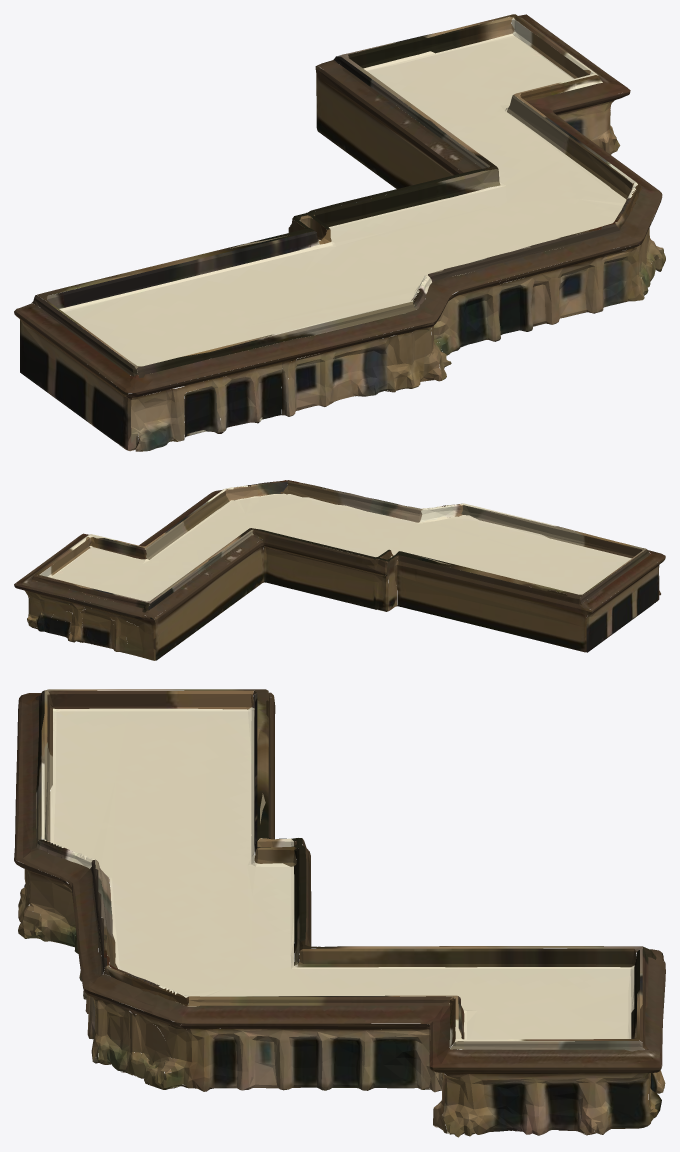
The model's file is 17_front_gallery.glb.
3 views of the same model, one above another, from view 1: azimuth 30°, elevation 25°; view 2: azimuth 150°, elevation 25°; view 3: azimuth 270°, elevation 25° (orthographic). The views are drawn at different scales.
Visible parts, largest first — view 1: 17_front_gallery.ply; view 2: 17_front_gallery.ply; view 3: 17_front_gallery.ply.
Boxes of the visible parts, left/top/right/bottom form: 17_front_gallery.ply: left=14, top=14, right=665, bottom=451; 17_front_gallery.ply: left=14, top=480, right=665, bottom=660; 17_front_gallery.ply: left=14, top=689, right=665, bottom=1137.
Bounding box in the file's own units: 1 × 0.1095 × 0.7365.
Materials: 1 (1 with a texture image).
